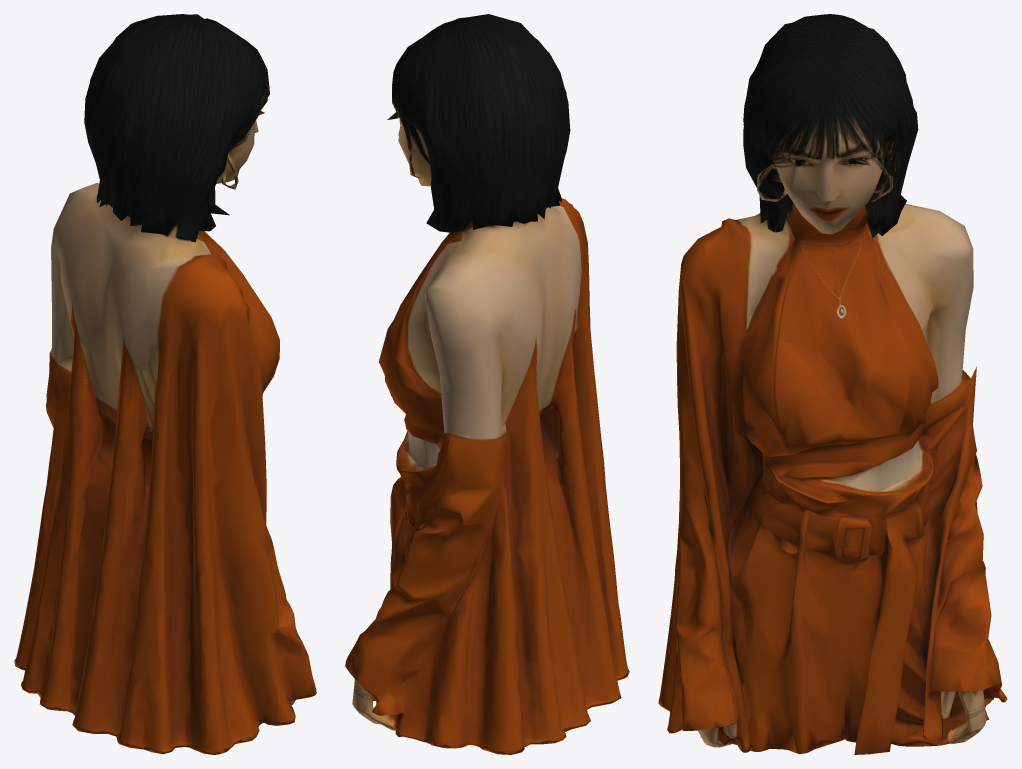
3 renders of one model, left to right at view 1: azimuth 30°, elevation 25°; view 2: azimuth 150°, elevation 25°; view 3: azimuth 270°, elevation 25°, orthographic. The views are drawn at different scales.
Parts seen in each view (by area): view 1: tripo_node_5655502d-7ad7-474f-a1fb-abaa7031859d; view 2: tripo_node_5655502d-7ad7-474f-a1fb-abaa7031859d; view 3: tripo_node_5655502d-7ad7-474f-a1fb-abaa7031859d.
Part boxes in pixels (x1,y1,x2,y2): tripo_node_5655502d-7ad7-474f-a1fb-abaa7031859d: (14, 14, 316, 754); tripo_node_5655502d-7ad7-474f-a1fb-abaa7031859d: (345, 14, 629, 754); tripo_node_5655502d-7ad7-474f-a1fb-abaa7031859d: (658, 14, 1007, 754).
Bounding box in the file's own units: 0.3206 × 0.9901 × 0.4485.
Materials: 1 (1 with a texture image).
